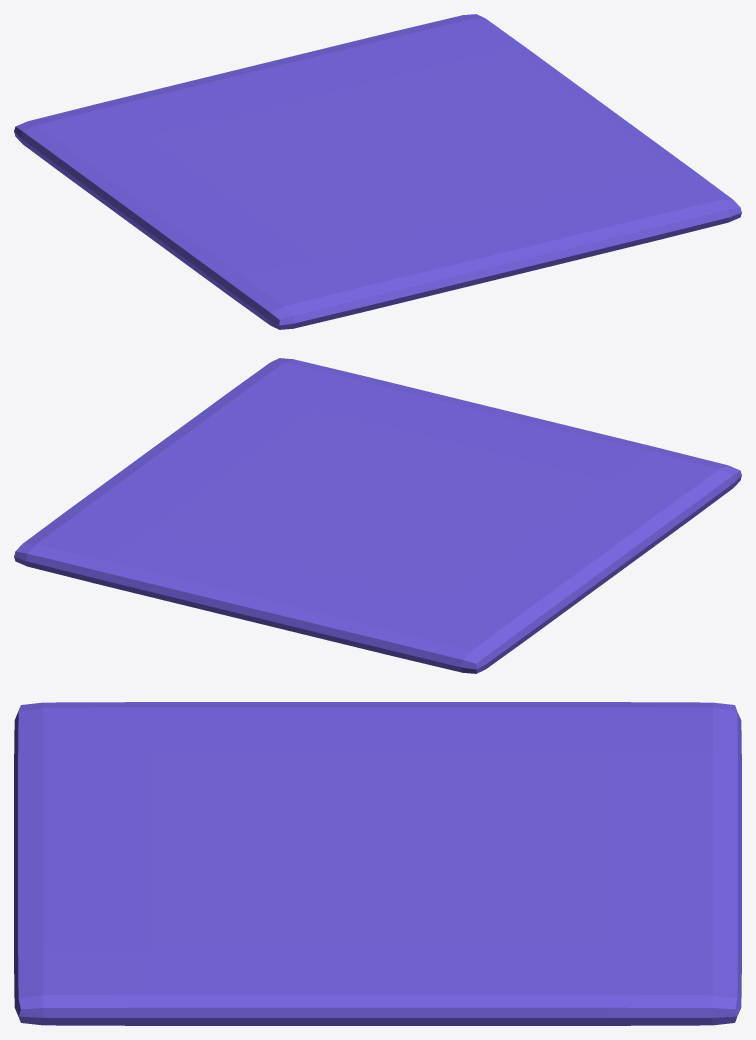
Rendered from Rug.glb.
3 renders of one model, top to bottom at view 1: azimuth 30°, elevation 25°; view 2: azimuth 150°, elevation 25°; view 3: azimuth 270°, elevation 25°, orthographic. The views are drawn at different scales.
Parts seen in each view (by area): view 1: Rug; view 2: Rug; view 3: Rug.
Boxes of the visible parts, x1,y1,x2,y2 form: Rug: (14, 14, 741, 329); Rug: (14, 358, 741, 673); Rug: (14, 702, 741, 1025).
Bounding box in the file's own units: 1.7 × 0.07 × 1.69.
